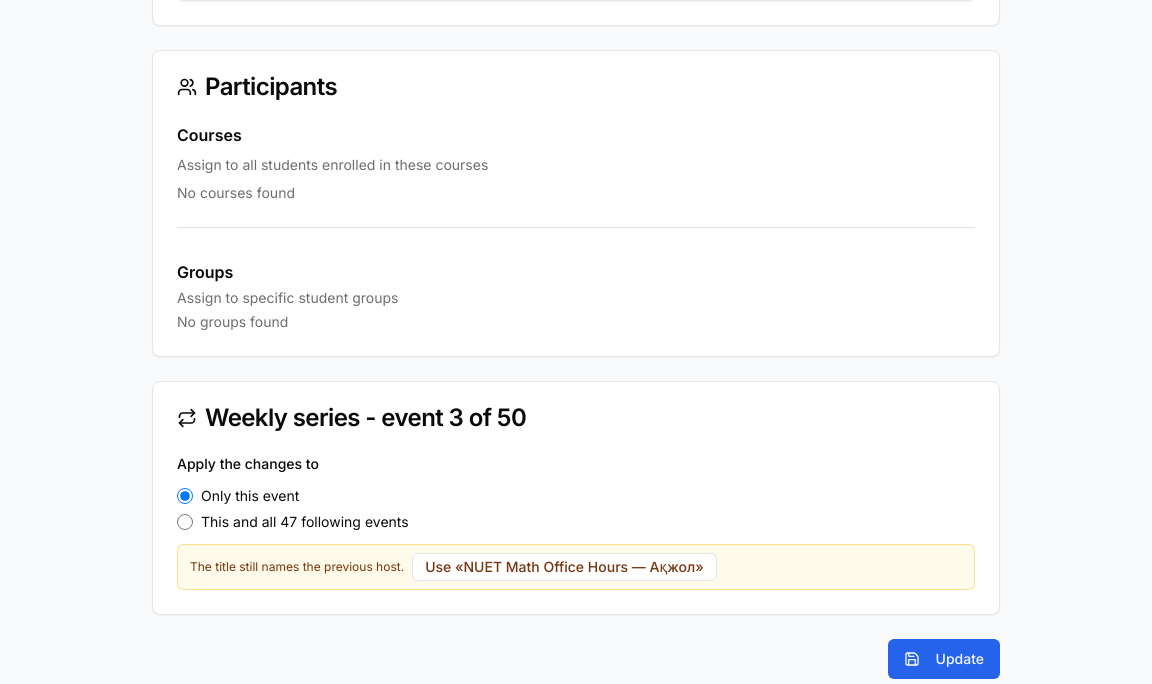
Test case: edit form: weekly series › shows what stays per event when the whole series is chosen
(page scrolled)
Click the radio button labelled "This and all 47 following events" at (185, 522), box [177, 514, 193, 530]
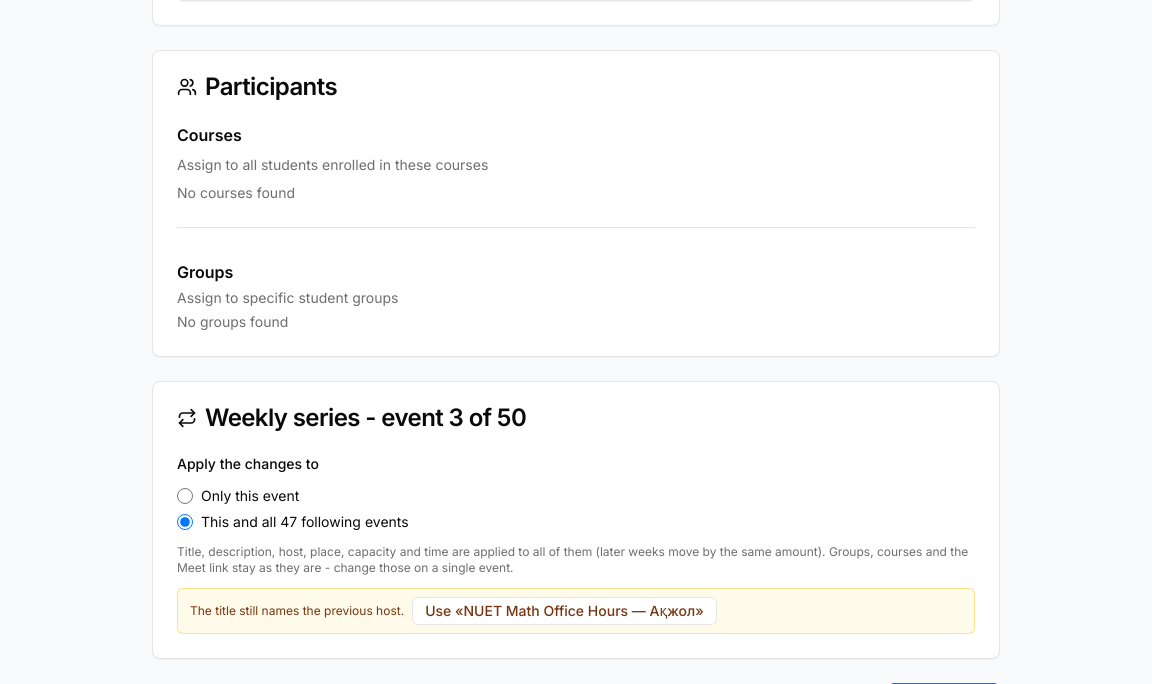
Check: the text "Groups, courses and the Meet link stay as they are" is shown, box [177, 544, 968, 575]
